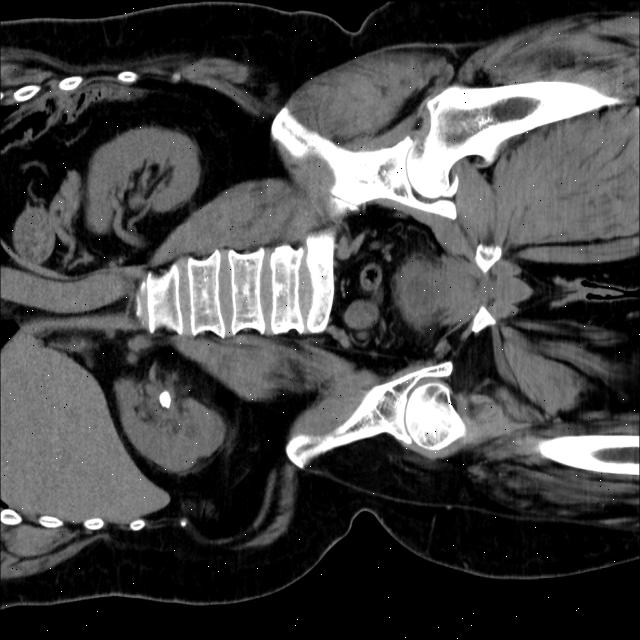kidneystone: (159, 389, 171, 408)
